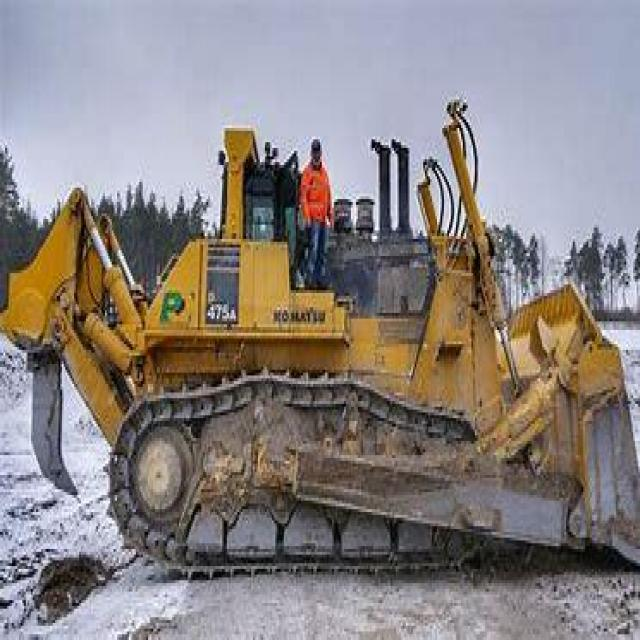Bulldozer: (2, 91, 638, 575)
